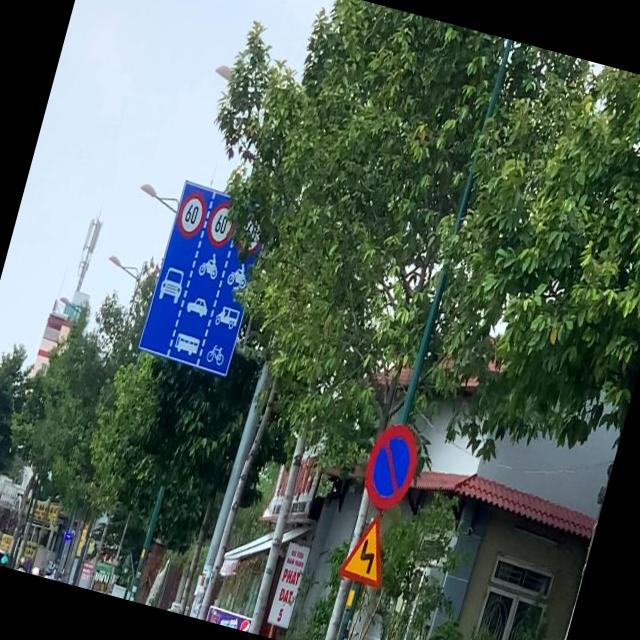P-131a: (357, 416, 426, 514)
W-202a: (334, 504, 398, 589)
